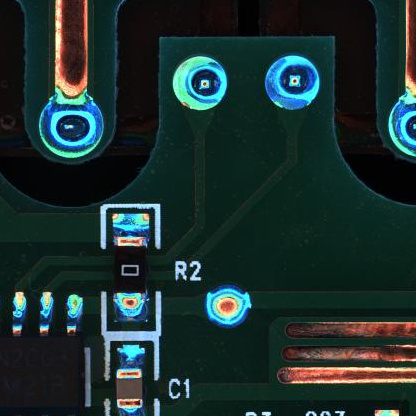spot: (38, 92, 106, 161), (172, 53, 230, 113), (265, 55, 323, 112), (204, 284, 253, 328)
